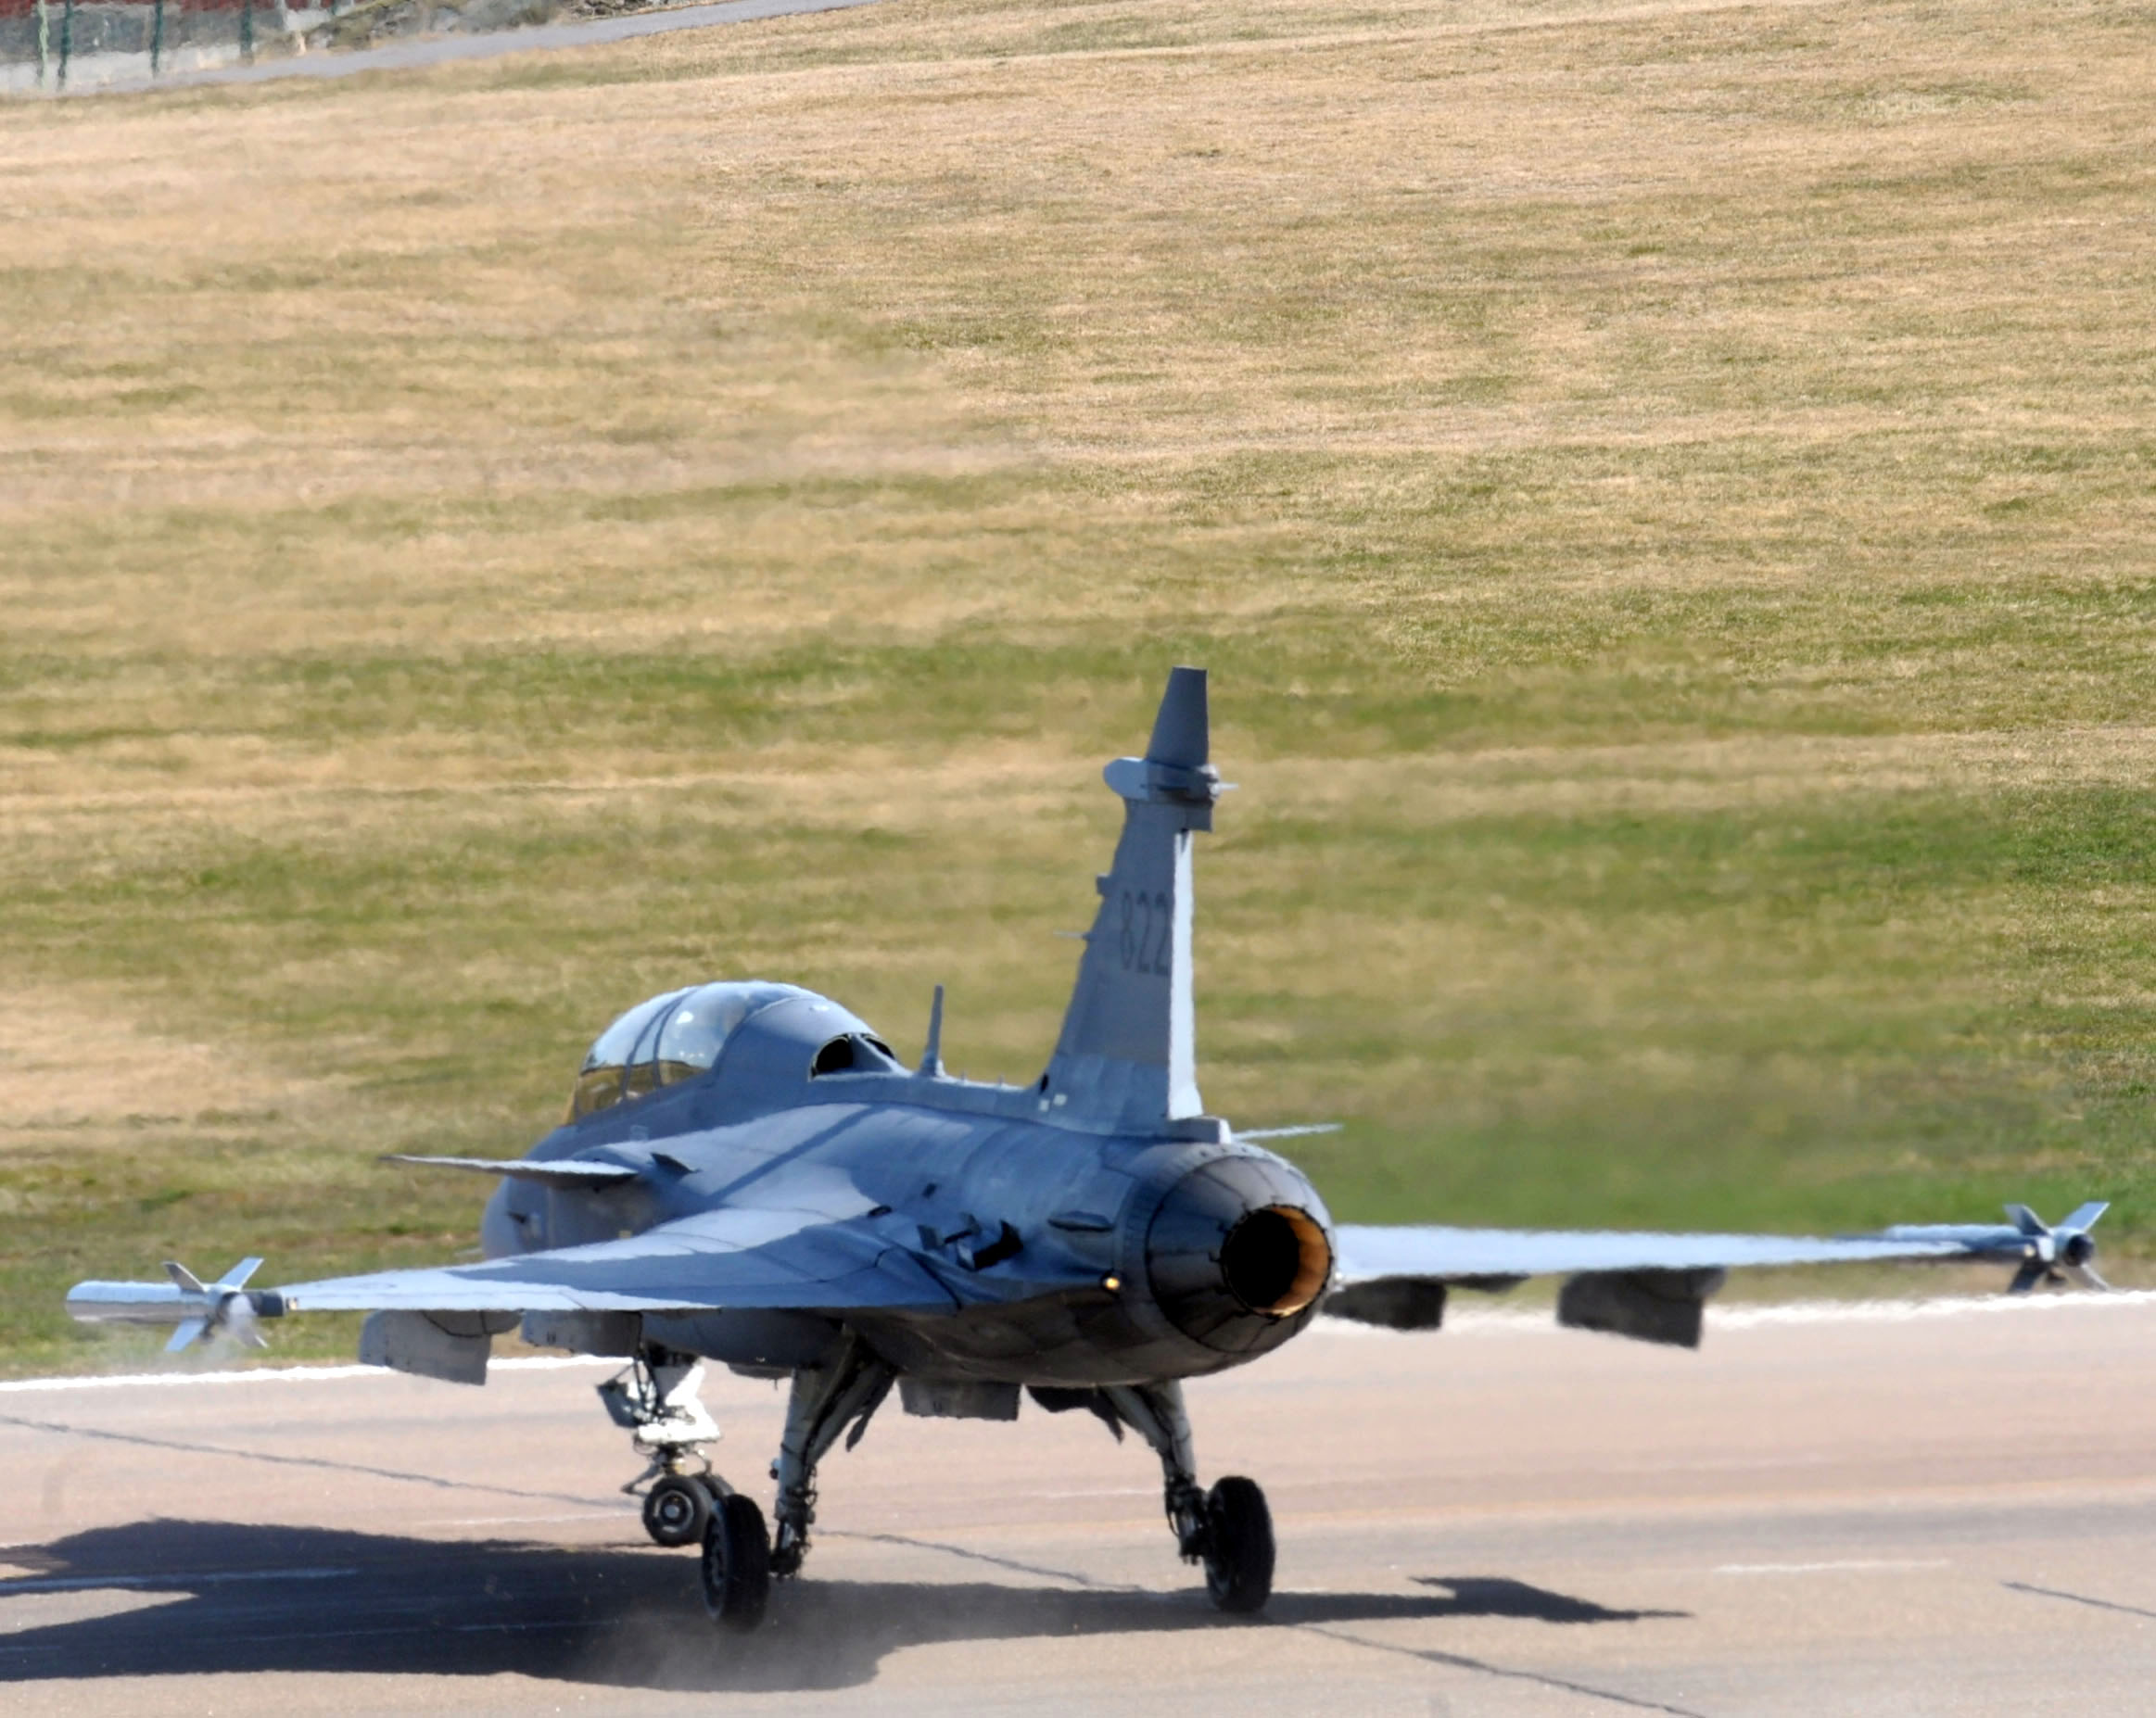JAS39: (65, 668, 2114, 1632)
